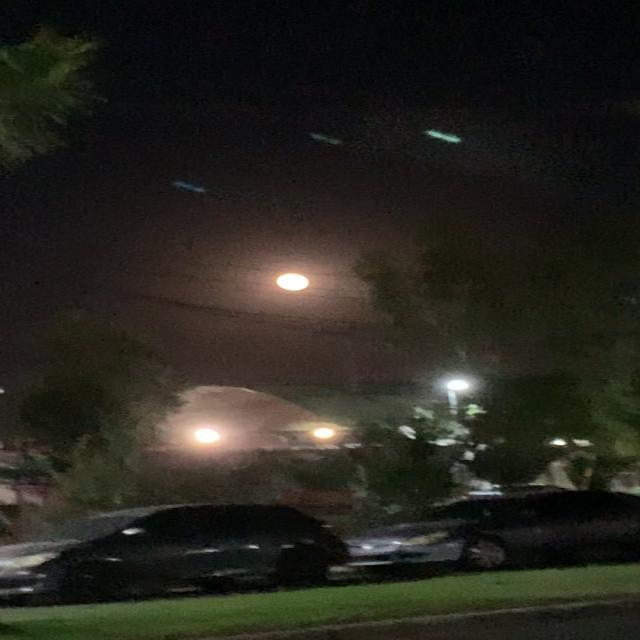moon: (316, 228, 374, 262)
